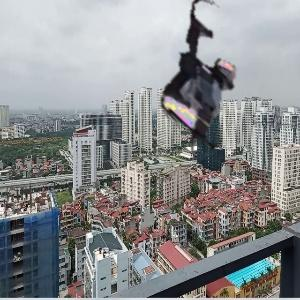drone: (133, 8, 274, 149)
